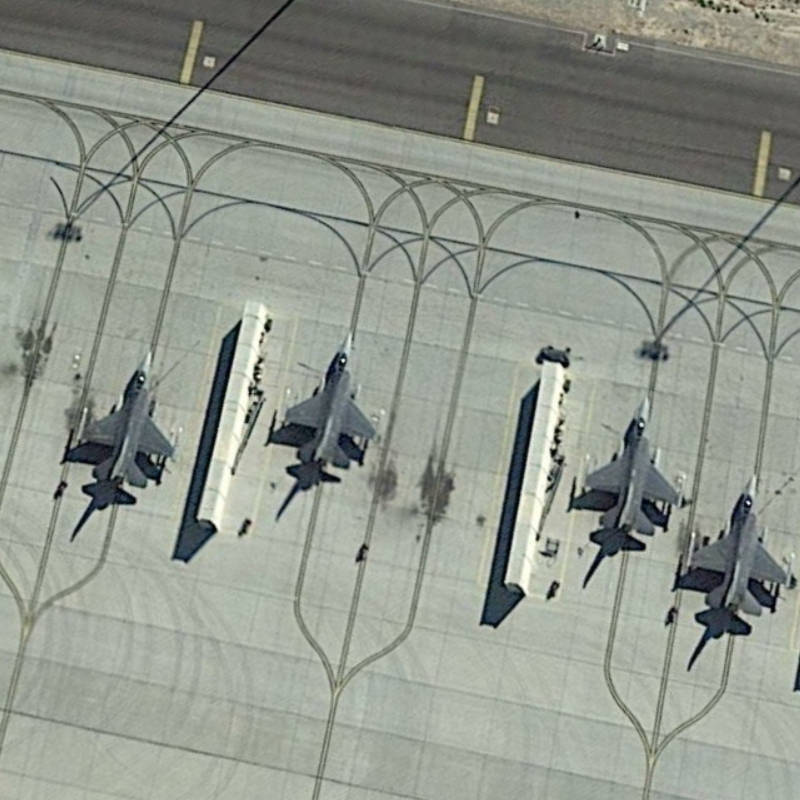A5: (676, 461, 793, 631), (271, 318, 389, 483), (574, 392, 690, 557), (65, 342, 184, 500)
